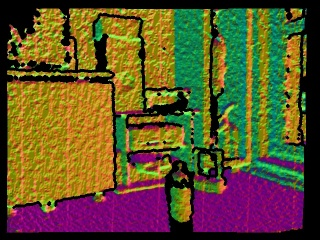station: (188, 147, 227, 193)
